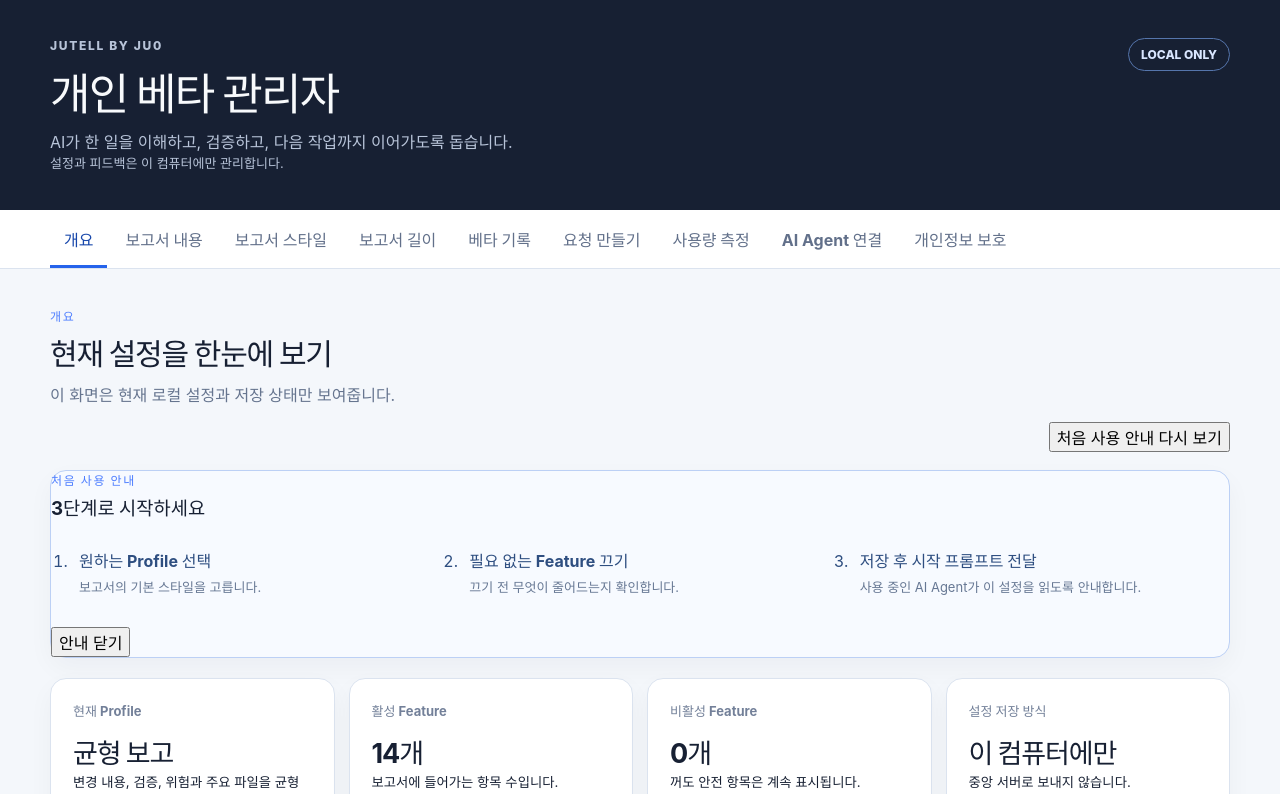
Scenario: local admin screens › shows privacy deletion controls and the beta journal form
The width and height of the screenshot is (1280, 794).
Click the button "개인정보 보호": x=960, y=239 [900, 210, 1020, 268]
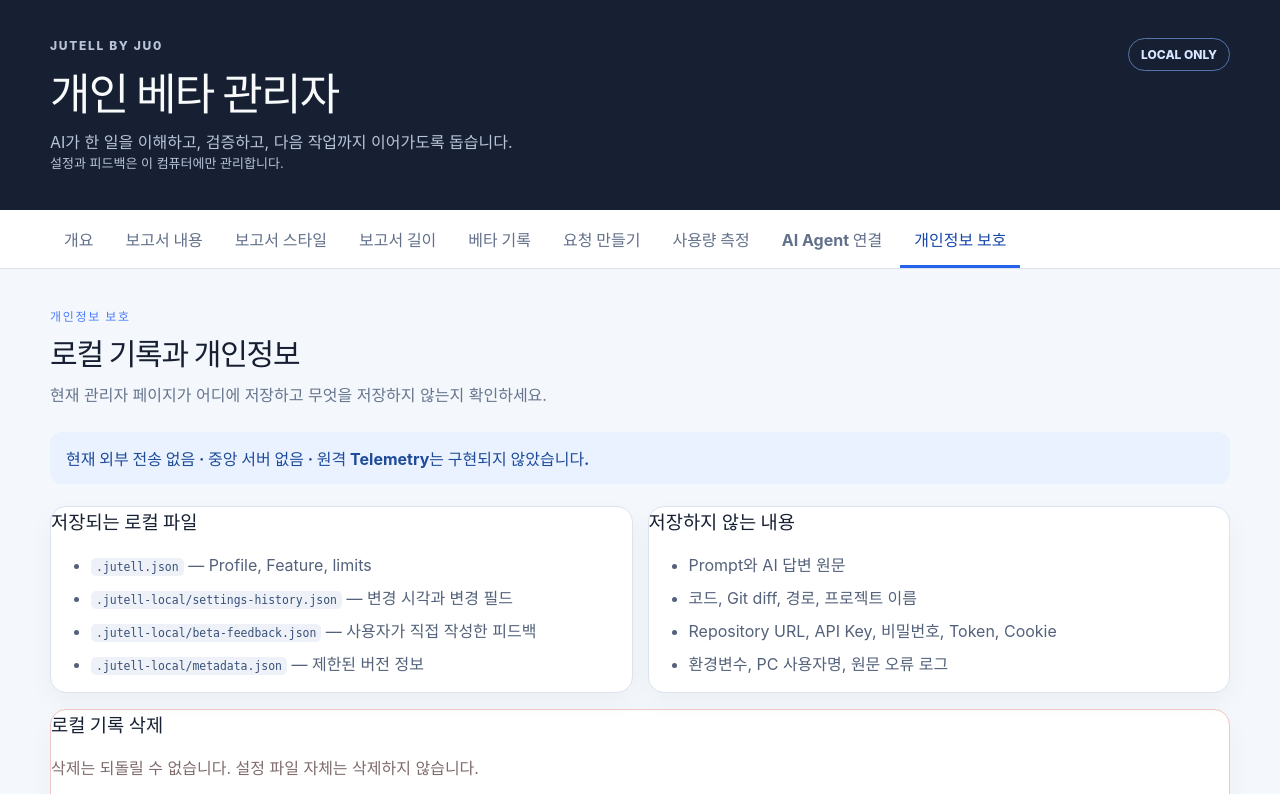
Click the button "베타 기록": x=500, y=239 [454, 210, 545, 268]
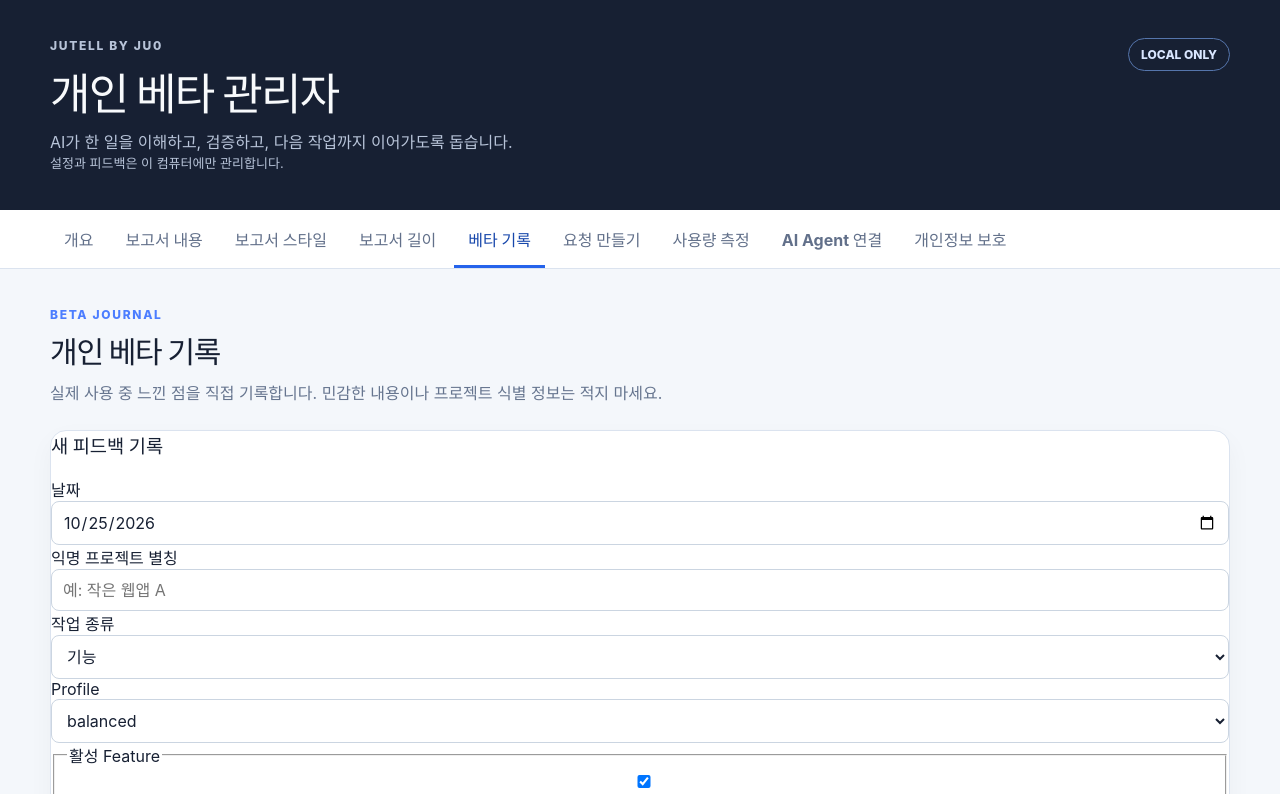
Expected: the heading "새 피드백 기록" is shown, [51, 431, 163, 458]
Expected: the field labelled "익명 프로젝트 별칭" is shown, [51, 569, 1229, 611]
